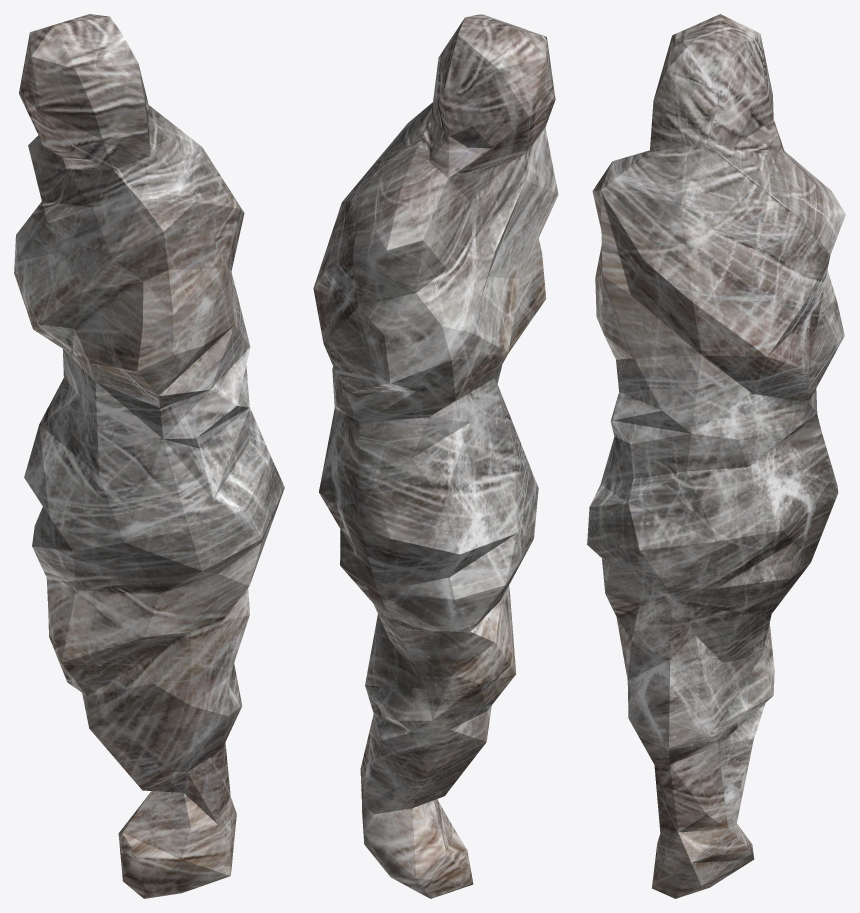
File: bg_lut_lutomb_sw01a_sm_old.FBX
The picture shows the model from 3 angles, left to right: view 1: azimuth 30°, elevation 25°; view 2: azimuth 150°, elevation 25°; view 3: azimuth 270°, elevation 25°; orthographic projection. The views are drawn at different scales.
Parts seen in each view (by area): view 1: bg_lut_lutomb_sw01a_sm_old; view 2: bg_lut_lutomb_sw01a_sm_old; view 3: bg_lut_lutomb_sw01a_sm_old.
Boxes of the visible parts, box(x1,y1,x2,y2) form: bg_lut_lutomb_sw01a_sm_old: box(14, 14, 284, 898); bg_lut_lutomb_sw01a_sm_old: box(313, 14, 558, 898); bg_lut_lutomb_sw01a_sm_old: box(587, 14, 845, 898).
Bounding box in the file's own units: 50.86 × 198 × 56.18.
